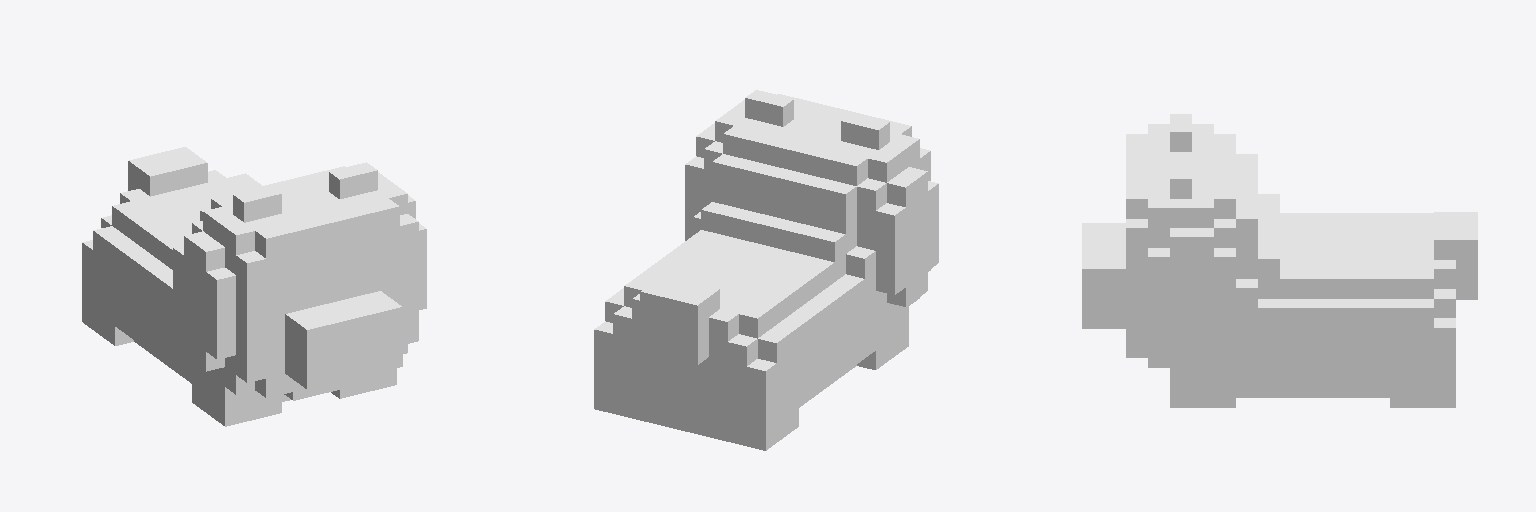
The model's file is panda-1.obj.
3 renders of one model, left to right at view 1: azimuth 30°, elevation 25°; view 2: azimuth 150°, elevation 25°; view 3: azimuth 270°, elevation 25°, orthographic.
Visible parts, largest first — view 1: object 1; view 2: object 1; view 3: object 1.
Part boxes in pixels (bbox=[...]): object 1: bbox=[82, 147, 426, 426]; object 1: bbox=[594, 90, 938, 450]; object 1: bbox=[1082, 114, 1477, 407].
Size of the model in its own units: 1.1 by 1.1 by 1.8.